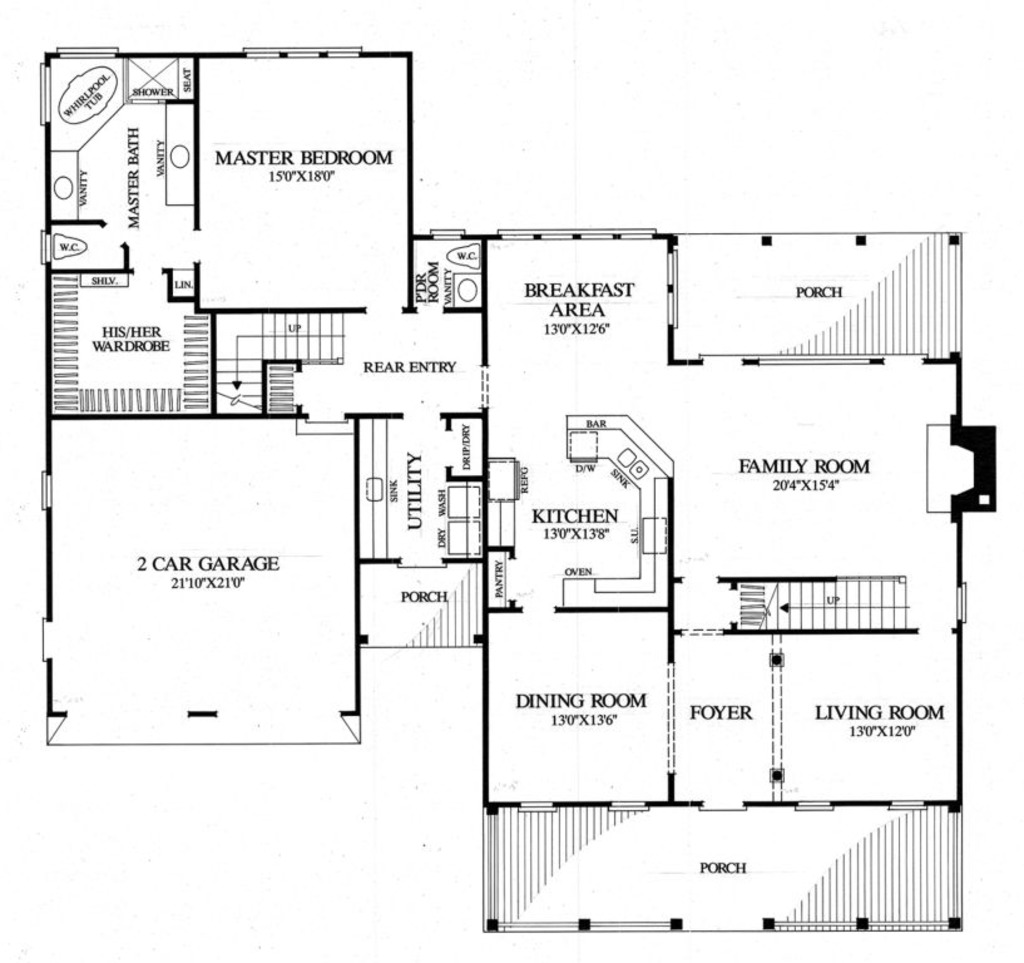kitchen_bar: (562, 414, 679, 500)
large_sink: (437, 237, 487, 274), (47, 224, 92, 264)
small_sink: (159, 104, 199, 206), (51, 146, 79, 221), (448, 269, 483, 310)
stairs: (212, 306, 348, 415), (720, 580, 918, 637)
tub: (47, 57, 122, 147)
window: (490, 224, 671, 248), (241, 44, 364, 63), (661, 243, 680, 331), (793, 797, 836, 820), (886, 797, 933, 818), (36, 468, 54, 516), (952, 582, 970, 628), (511, 800, 561, 816), (605, 800, 648, 811)
